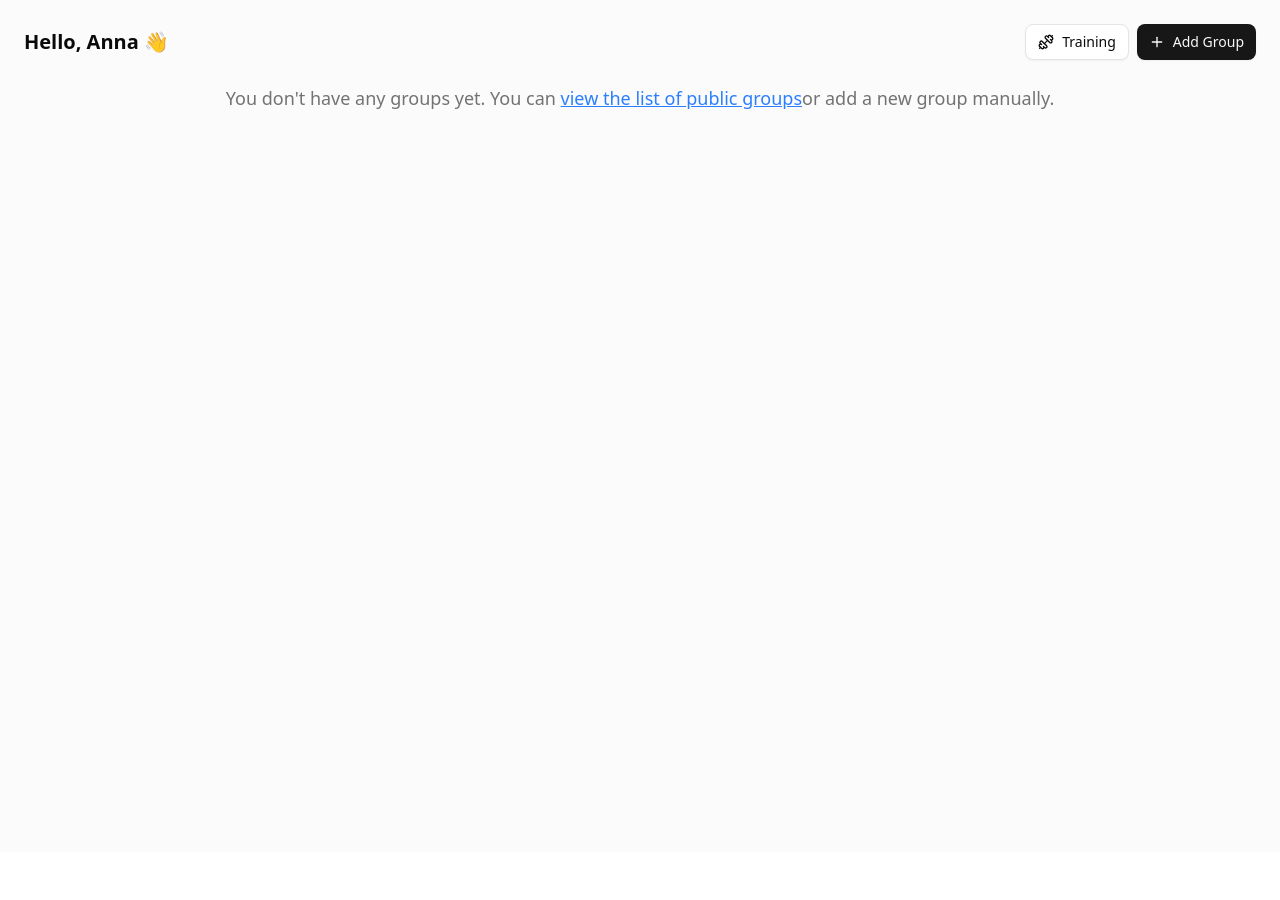
HomePage › allows creating a new group
Expected: the text "Hello, Anna 👋" is shown, [24,28,169,56]
Click the button "Add Group": (1196, 42) [1137,24,1256,60]
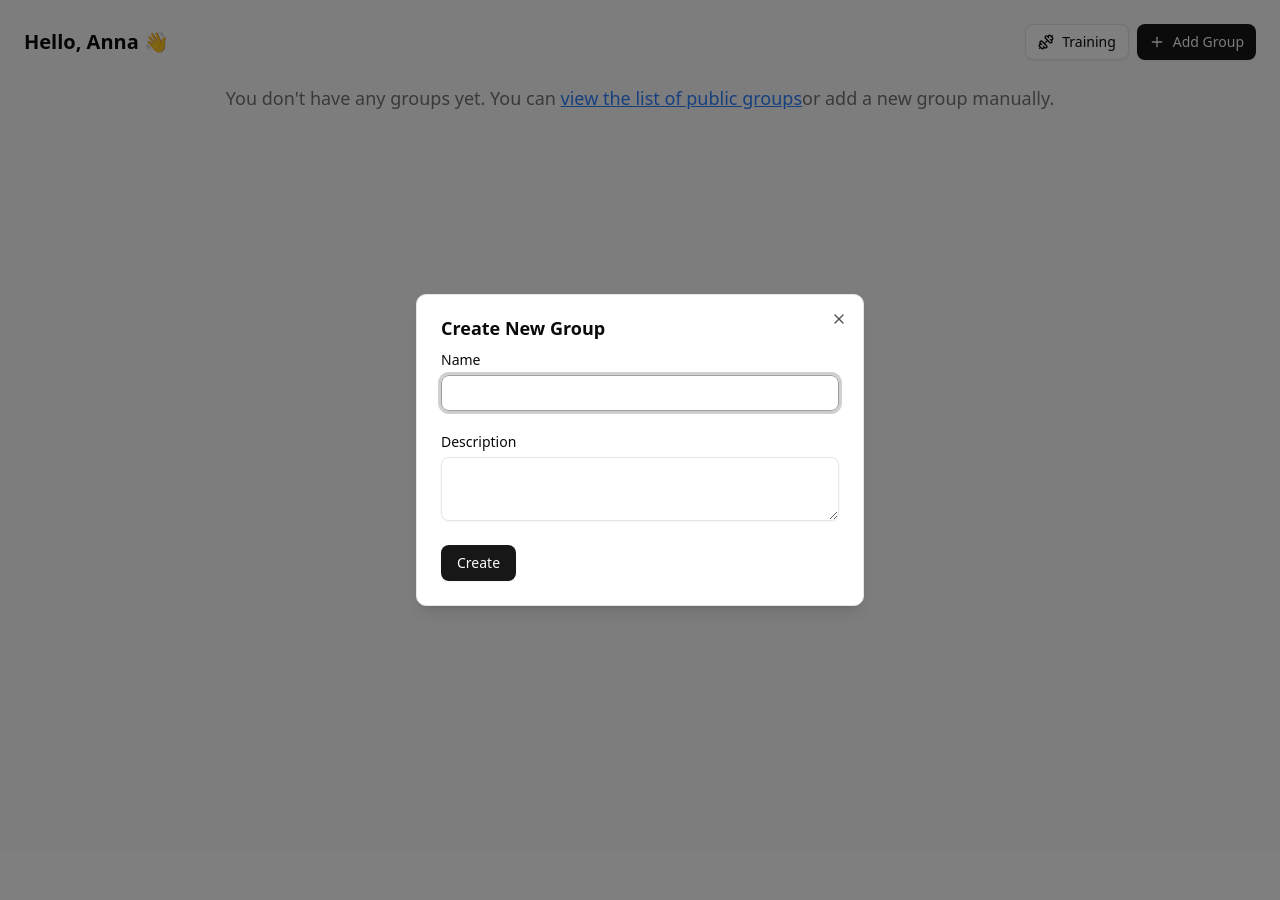
Expected: the heading "Create New Group" is shown, [441,316,605,340]
In the field labelled "Name": (640, 393) [441,375,839,411], type "New Group"
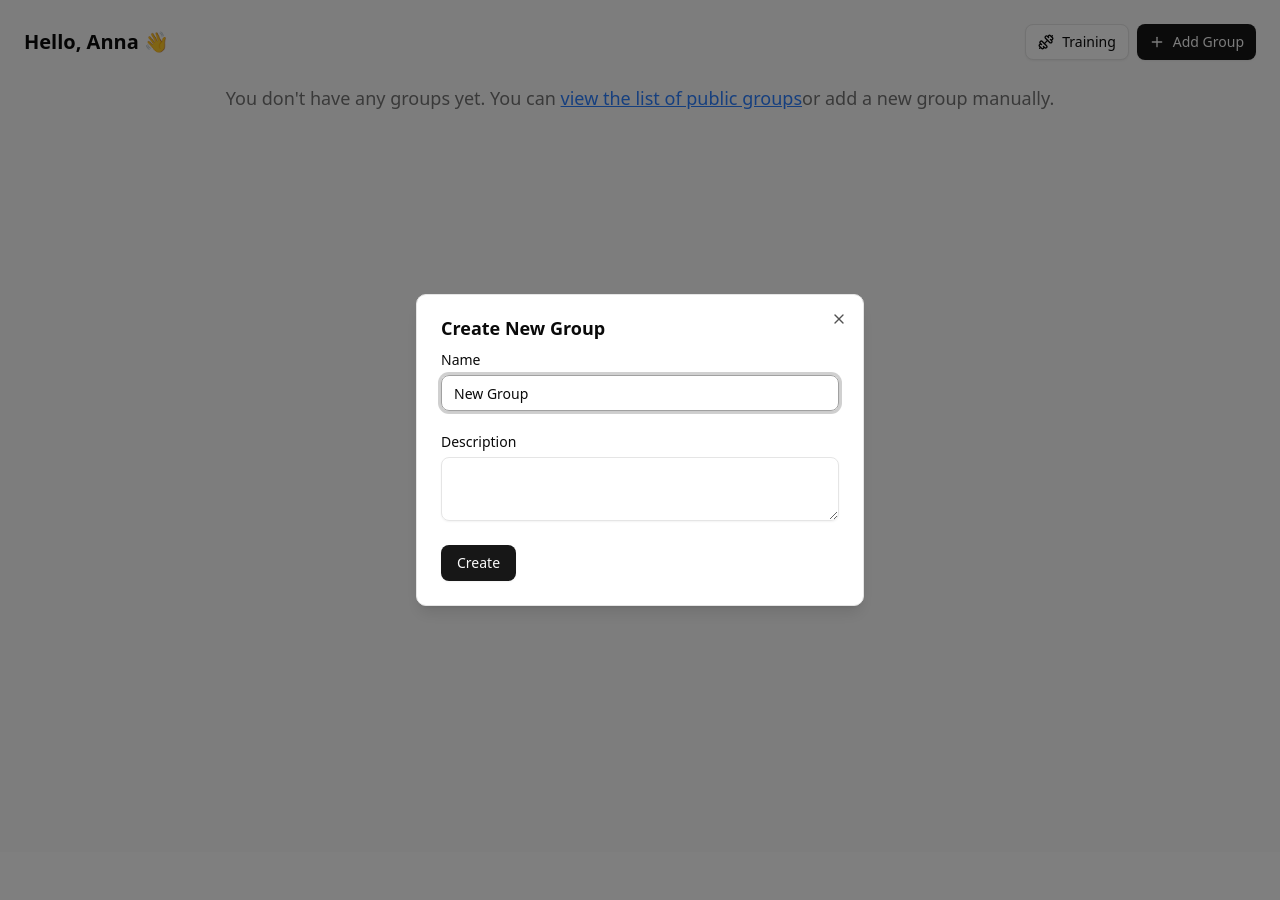
In the text box labelled "Description": (640, 489) [441,457,839,521], type "New group description"
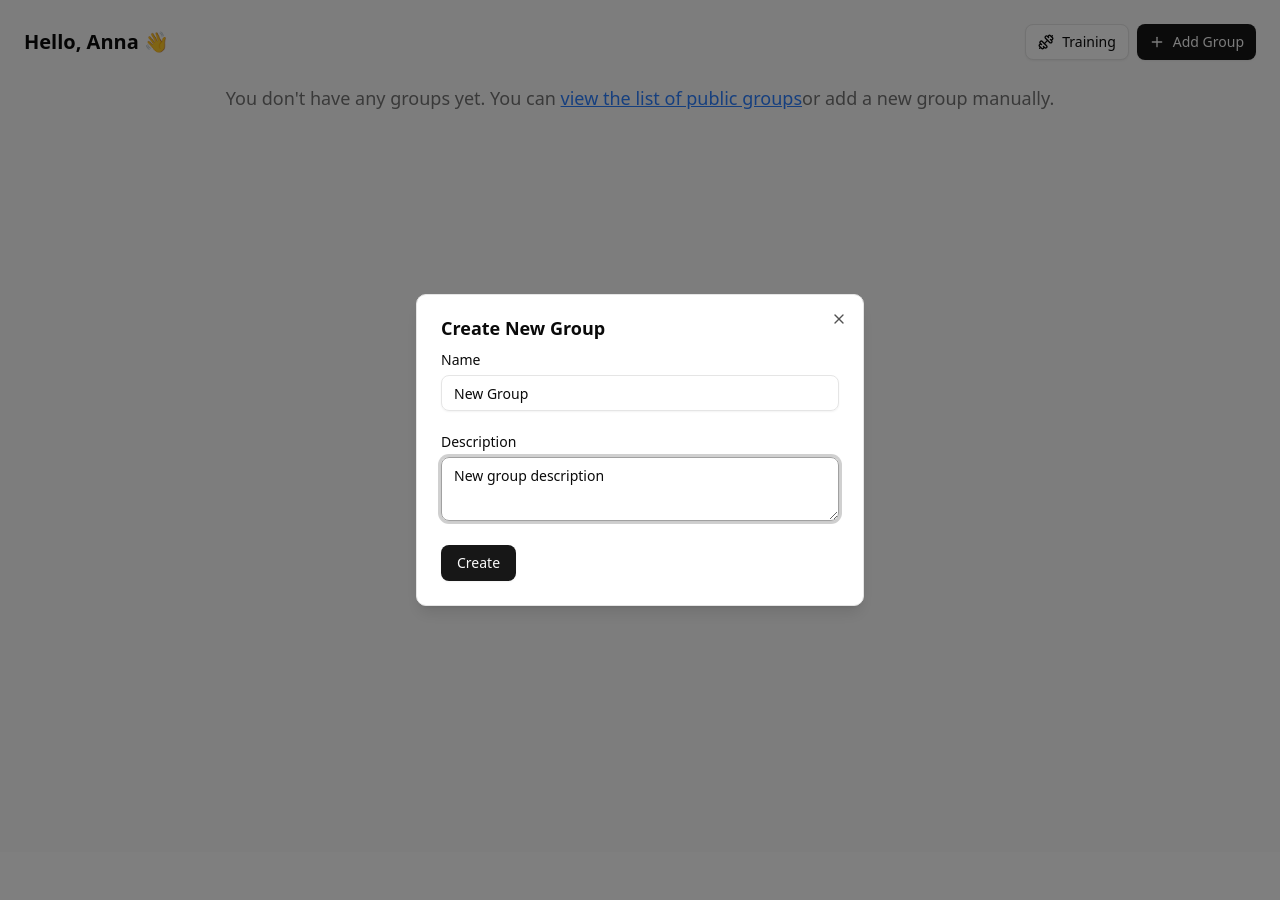
Click the button "Create": (479, 563) [441,545,516,581]
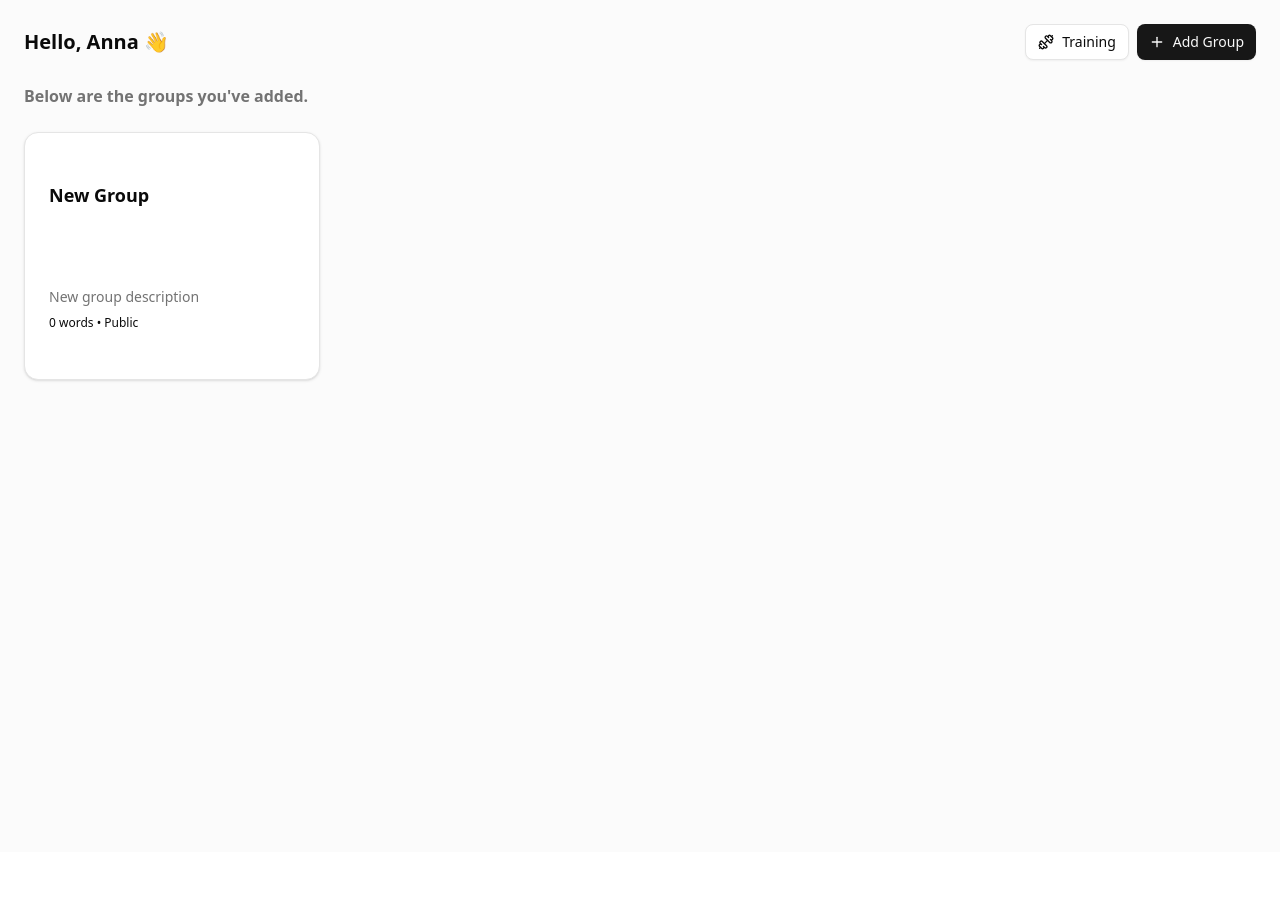
Expected: the text "New Group" is shown, [49,183,149,207]
Expected: the heading "Create New Group" is gone
